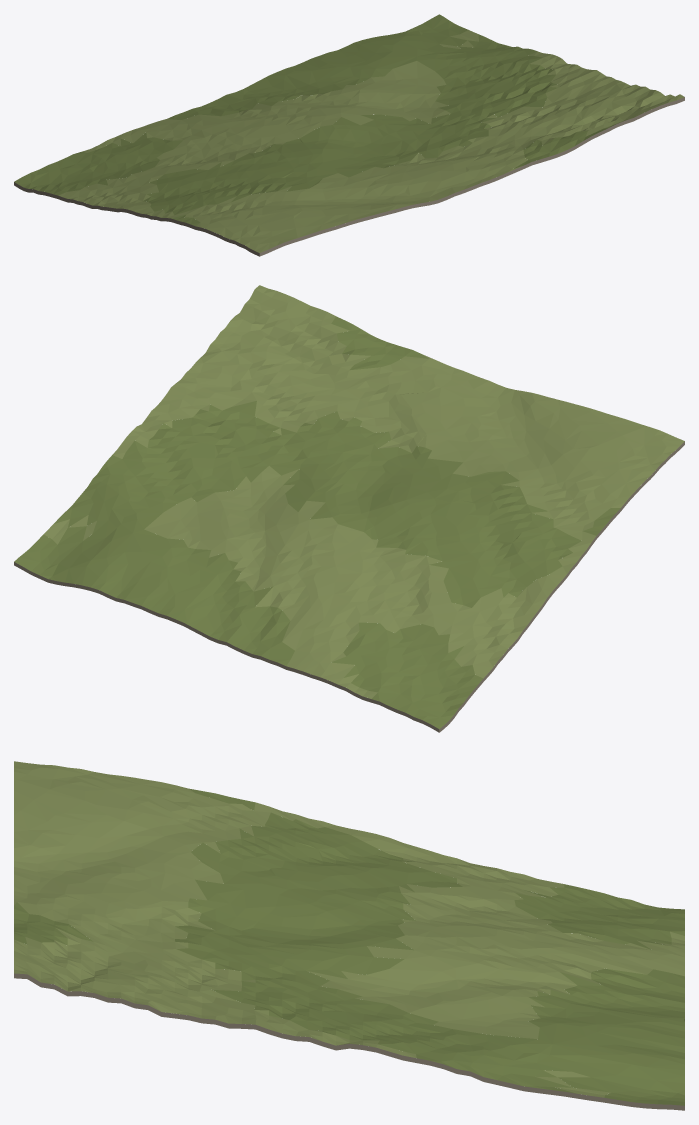
Rendered from parca_+4_-5-uzak.glb.
The picture shows the model from 3 angles, top to bottom: view 1: azimuth 30°, elevation 25°; view 2: azimuth 150°, elevation 25°; view 3: azimuth 270°, elevation 25°; orthographic projection. The views are drawn at different scales.
Visible parts, largest first — view 1: parca_+4_-5_arazi_uzak; view 2: parca_+4_-5_arazi_uzak; view 3: parca_+4_-5_arazi_uzak.
Boxes of the visible parts, bbox=[...] form: parca_+4_-5_arazi_uzak: bbox=[14, 14, 684, 256]; parca_+4_-5_arazi_uzak: bbox=[14, 285, 684, 732]; parca_+4_-5_arazi_uzak: bbox=[14, 761, 684, 1110].
Size of the model in its own units: 1000 by 369 by 1000.
